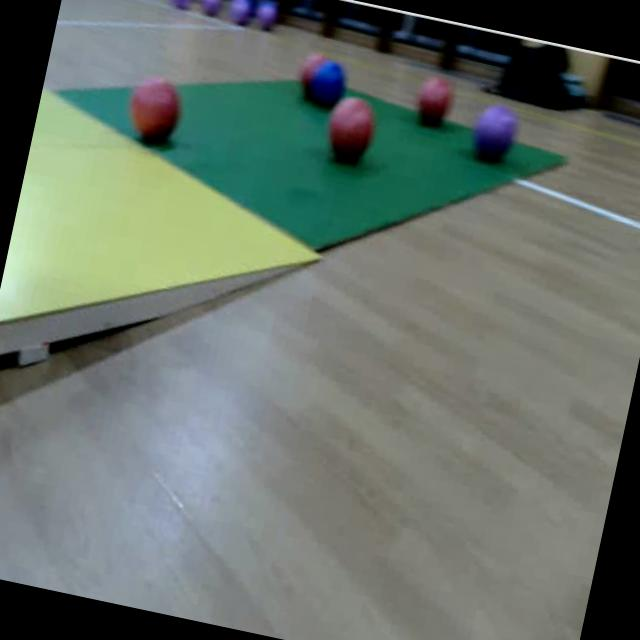blue_ball: (306, 56, 350, 112)
purple_ball: (467, 104, 519, 164)
red_ball: (124, 72, 188, 146), (324, 94, 378, 159), (410, 70, 454, 126), (295, 47, 330, 97)
